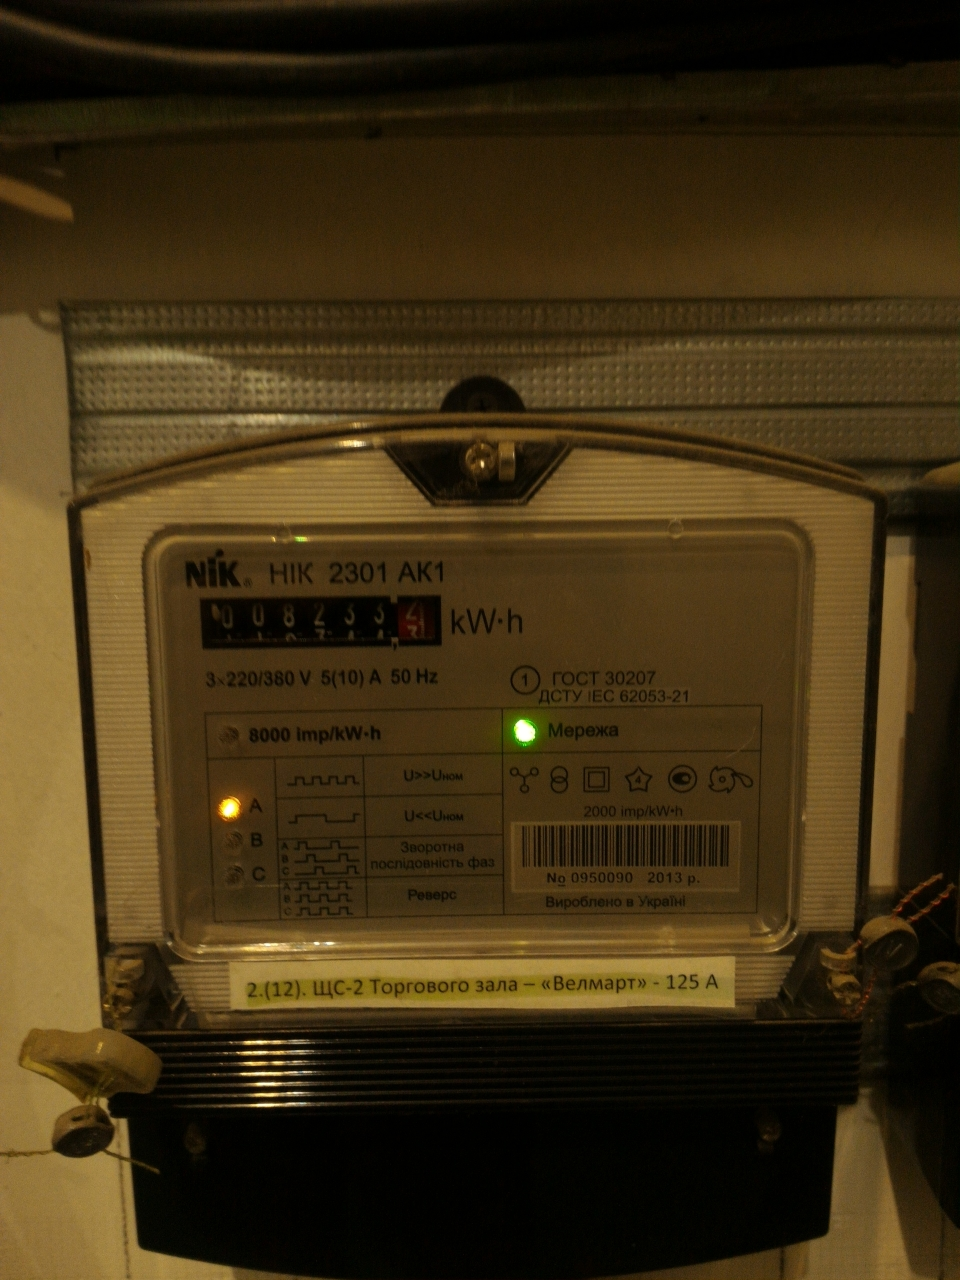0: (219, 602, 236, 631), (250, 601, 266, 629)
2: (312, 600, 328, 627), (404, 599, 419, 622)
3: (340, 601, 359, 626), (372, 601, 386, 625), (406, 624, 419, 638)
8: (280, 601, 297, 629)
screen: (190, 586, 452, 656)
